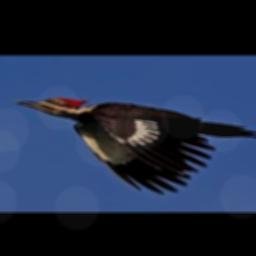Woodpecker: (14, 97, 256, 194)
